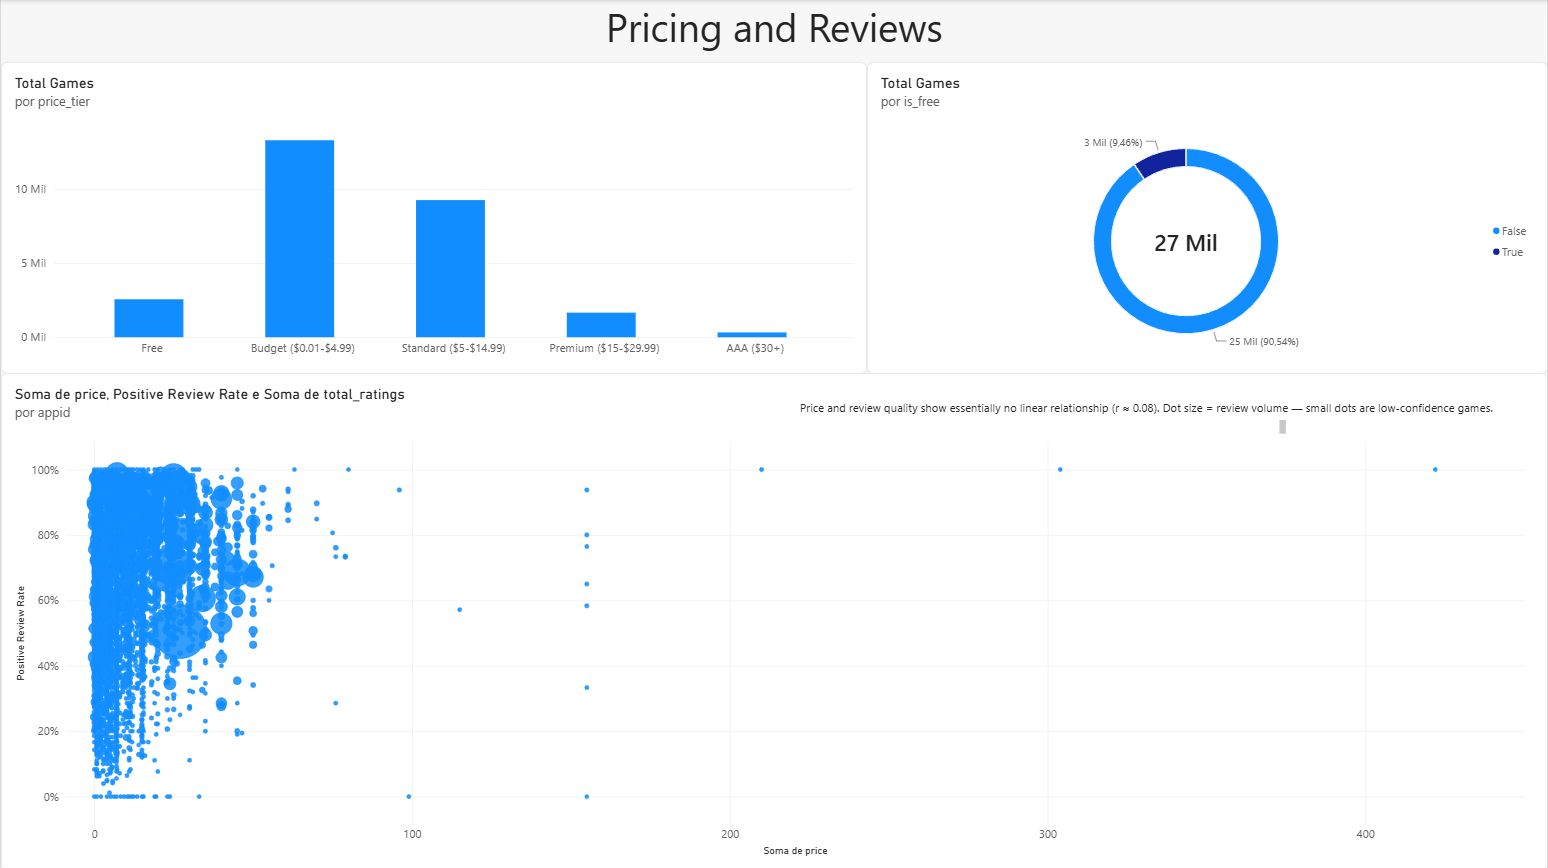

The dashboard page shown, as its layout file describes it:
{"tool":"powerbi","page":{"name":"Página 2","canvas":[1920,1080],"ordinal":1},"visuals":[{"type":"columnChart","fields":{"Category":["fact_games.price_tier"],"Y":["fact_games.Total Games"]},"box":[0,76.7,1075,386.7],"z":0},{"type":"donutChart","fields":{"Category":["fact_games.is_free"],"Y":["fact_games.Total Games"]},"box":[1075,76.7,845,386.7],"z":1000},{"type":"scatterChart","fields":{"Category":["fact_games.appid"],"Size":["Sum(fact_games.total_ratings)"],"X":["Sum(fact_games.price)"],"Y":["fact_games.Positive Review Rate"]},"box":[0,463.3,1920,616.7],"z":2000},{"type":"textbox","box":[725,521.7,870,18.3],"z":2001},{"type":"textbox","box":[0,0,1920,76.7],"z":2002},{"type":"textbox","box":[991.7,496.7,875,25],"z":2003}]}

Visuals, with their boxes in screenshot pixels (x1, y1, x2, y2), scaled from the page's 1920x1080 canvas onto the 1548x868 screenshot:
columnChart - fact_games.price_tier x fact_games.Total Games: {"left": 0, "top": 62, "right": 867, "bottom": 372}
donutChart - fact_games.is_free x fact_games.Total Games: {"left": 867, "top": 62, "right": 1547, "bottom": 372}
scatterChart - fact_games.appid x Sum(fact_games.total_ratings): {"left": 0, "top": 372, "right": 1547, "bottom": 867}
textbox: {"left": 585, "top": 419, "right": 1286, "bottom": 434}
textbox: {"left": 0, "top": 0, "right": 1547, "bottom": 62}
textbox: {"left": 800, "top": 399, "right": 1505, "bottom": 419}
